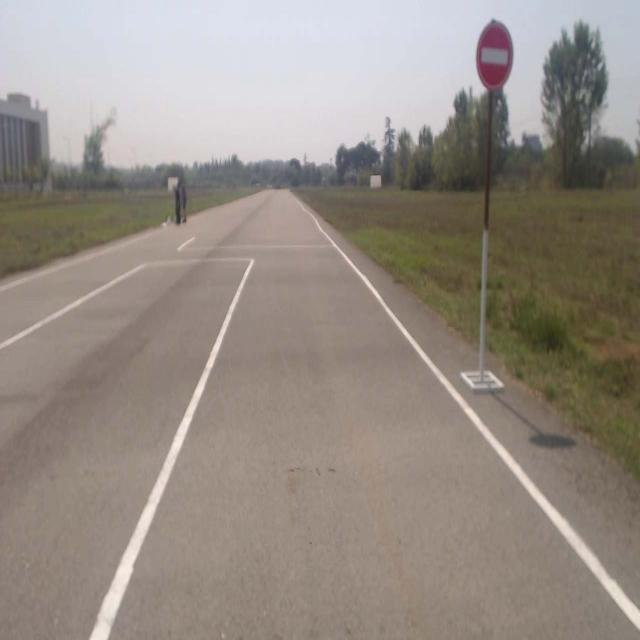girisyok: (477, 22, 513, 89)
